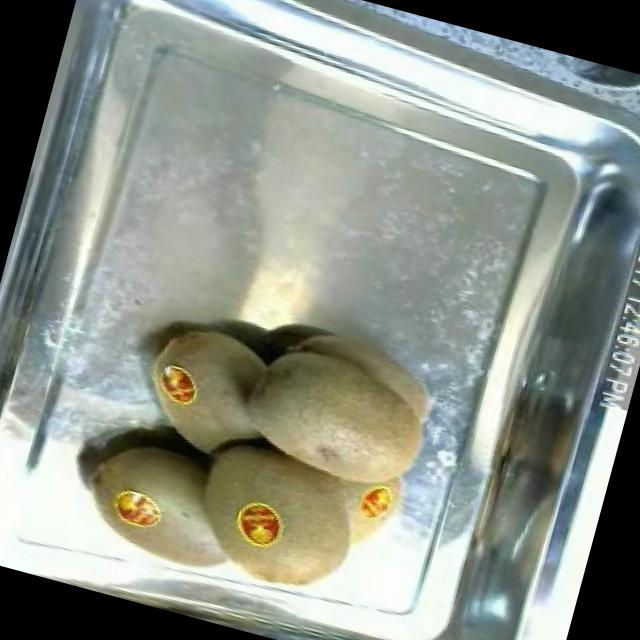Fruit: (226, 302, 458, 511), (121, 305, 286, 473), (219, 488, 294, 562), (98, 475, 174, 544)
